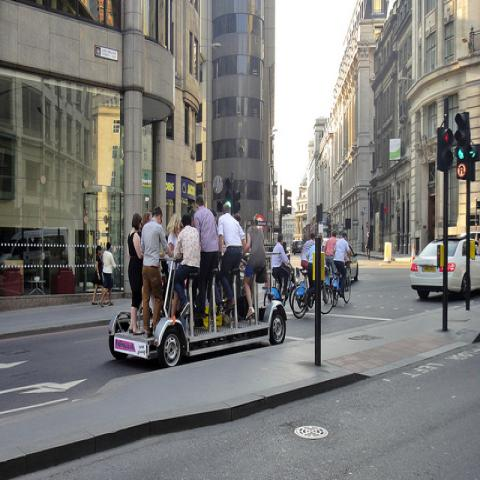car: (409, 235, 479, 300), (346, 244, 359, 282), (290, 241, 304, 254)
